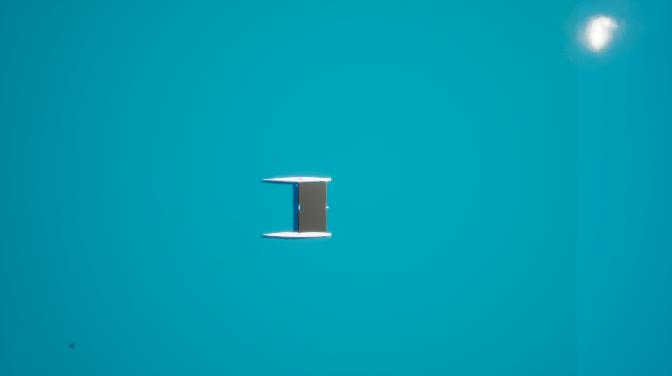boat: (262, 174, 333, 242)
drone: (68, 341, 77, 354)
land_base: (299, 184, 327, 232)
light_reflex: (566, 3, 634, 62)
